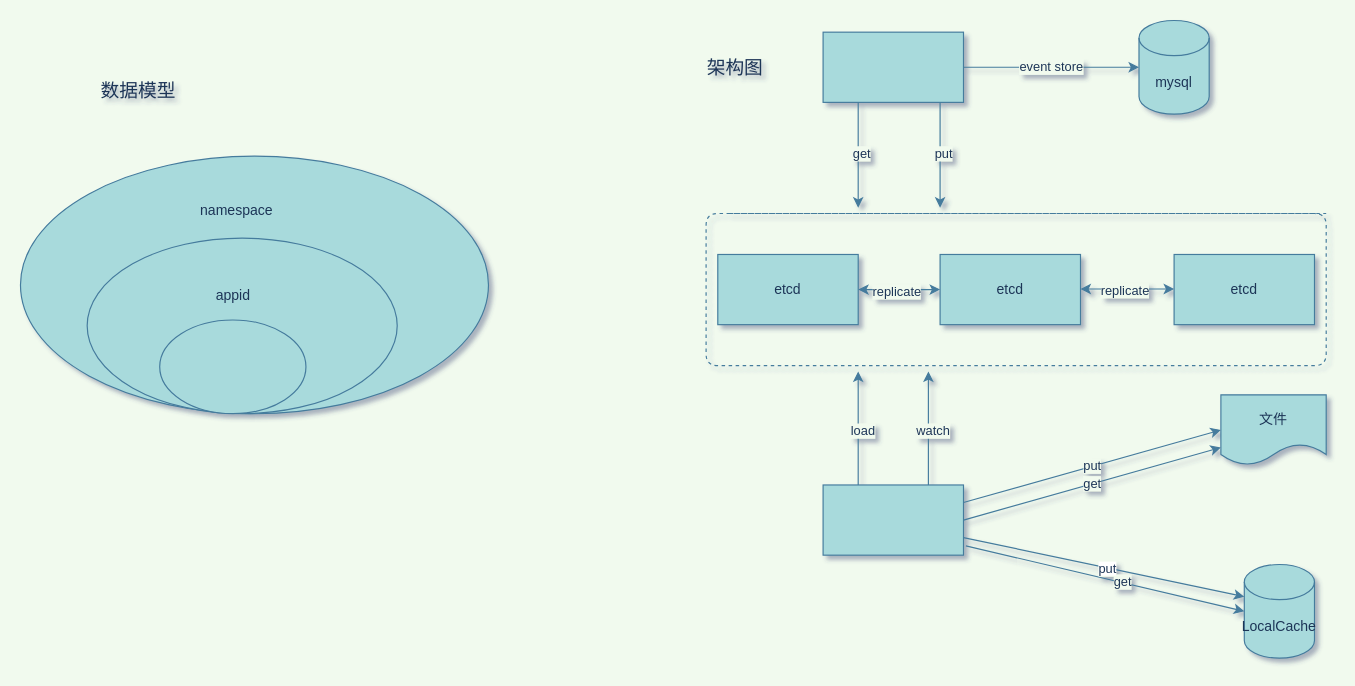
Image size: 1355x686. Some labels were removed from this diagram. The centre of each missing label's shape, as x and y in pixels:
client sdk: the point at 892,519
name: the point at 232,366
server: the point at 892,66
